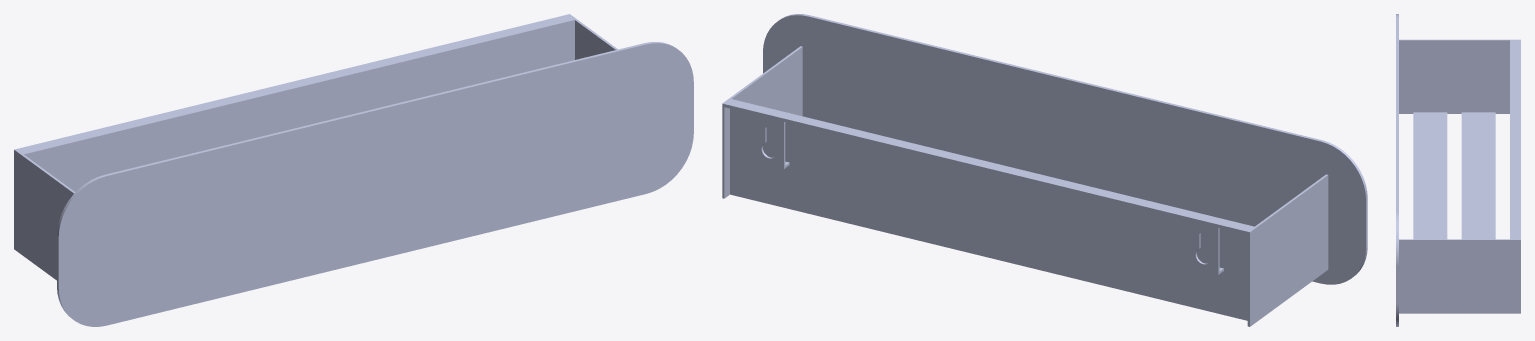
Rendered from radius-mono.e90620d2b8.glb.
3 views of the same model, side by side, from view 1: azimuth 30°, elevation 25°; view 2: azimuth 150°, elevation 25°; view 3: azimuth 270°, elevation 25° (orthographic). The views are drawn at different scales.
Visible parts, largest first — view 1: NAUO1; view 2: NAUO1; view 3: NAUO1.
Part boxes in pixels (x1=…): NAUO1: x1=14, y1=14, x2=693, y2=326; NAUO1: x1=722, y1=14, x2=1367, y2=326; NAUO1: x1=1396, y1=14, x2=1520, y2=326.
Bounding box in the file's own units: 0.4 × 0.09 × 0.092.
